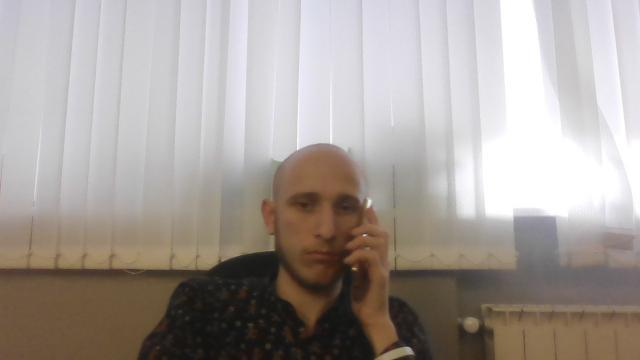PhoneUse: (347, 196, 375, 286)
SafeDriving: (289, 194, 322, 216)
